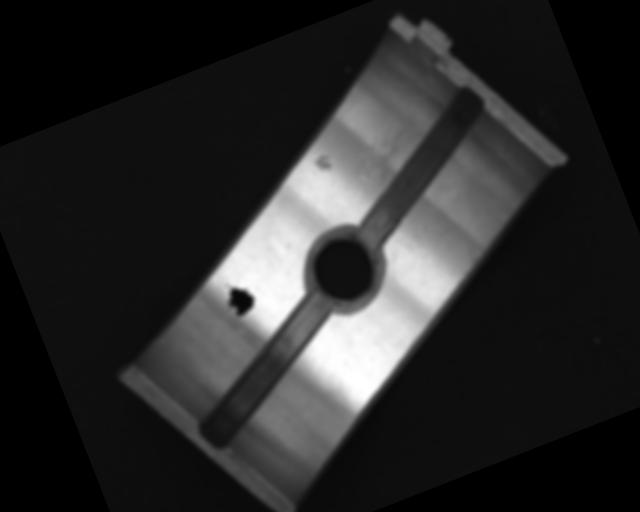blot: (218, 275, 260, 322)
bruise: (307, 151, 335, 177)
gap: (325, 83, 519, 252), (170, 289, 358, 451)
hole: (296, 222, 392, 318)
scratch: (347, 110, 441, 197)
